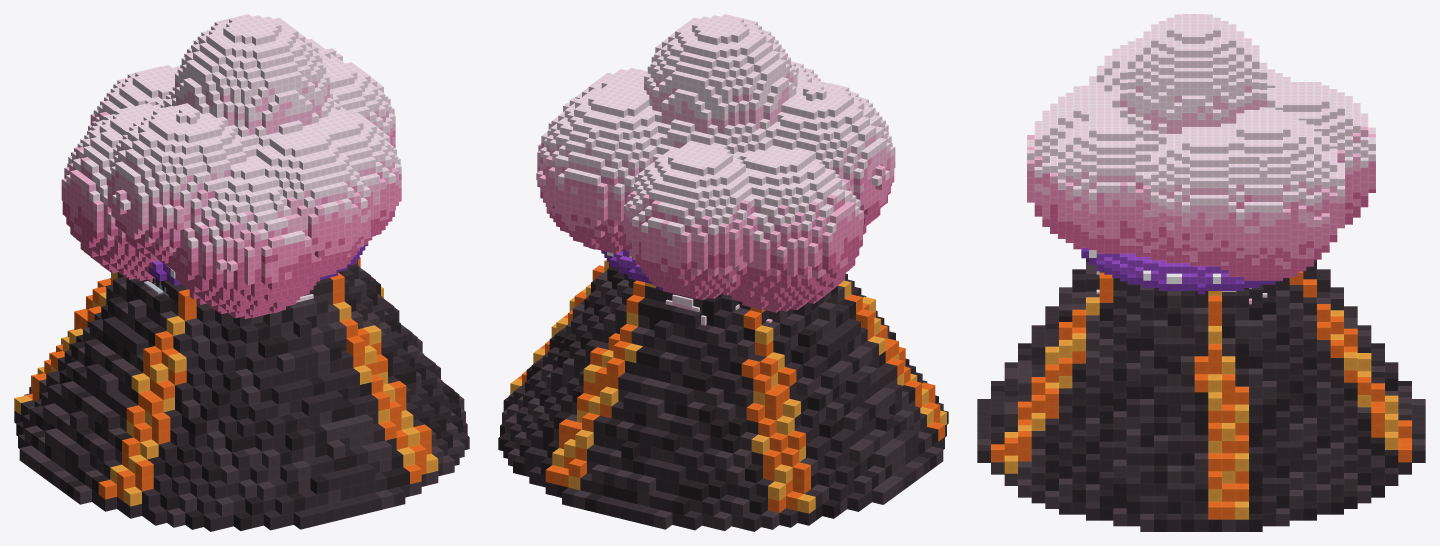
File: MowModels.fbx
3 renders of one model, left to right at view 1: azimuth 30°, elevation 25°; view 2: azimuth 150°, elevation 25°; view 3: azimuth 270°, elevation 25°, orthographic. The views are drawn at different scales.
Visible parts, largest first — view 1: Landmark_volcano, Landmark_cherry, Landmark_mushroomhut; view 2: Landmark_volcano, Landmark_cherry, Landmark_mushroomhut; view 3: Landmark_volcano, Landmark_cherry, Landmark_mushroomhut.
Part boxes in pixels (x1,y1,x2,y2): Landmark_volcano: (14,257,469,531); Landmark_cherry: (61,14,401,318); Landmark_mushroomhut: (148,244,368,286); Landmark_volcano: (498,259,948,531); Landmark_cherry: (536,14,895,312); Landmark_mushroomhut: (601,249,662,290); Landmark_volcano: (977,258,1425,531); Landmark_cherry: (1027,14,1375,280); Landmark_mushroomhut: (1081,248,1305,294).
Bounding box in the file's own units: 9240 × 9440 × 9240.
Materials: 1 (1 with a texture image).
